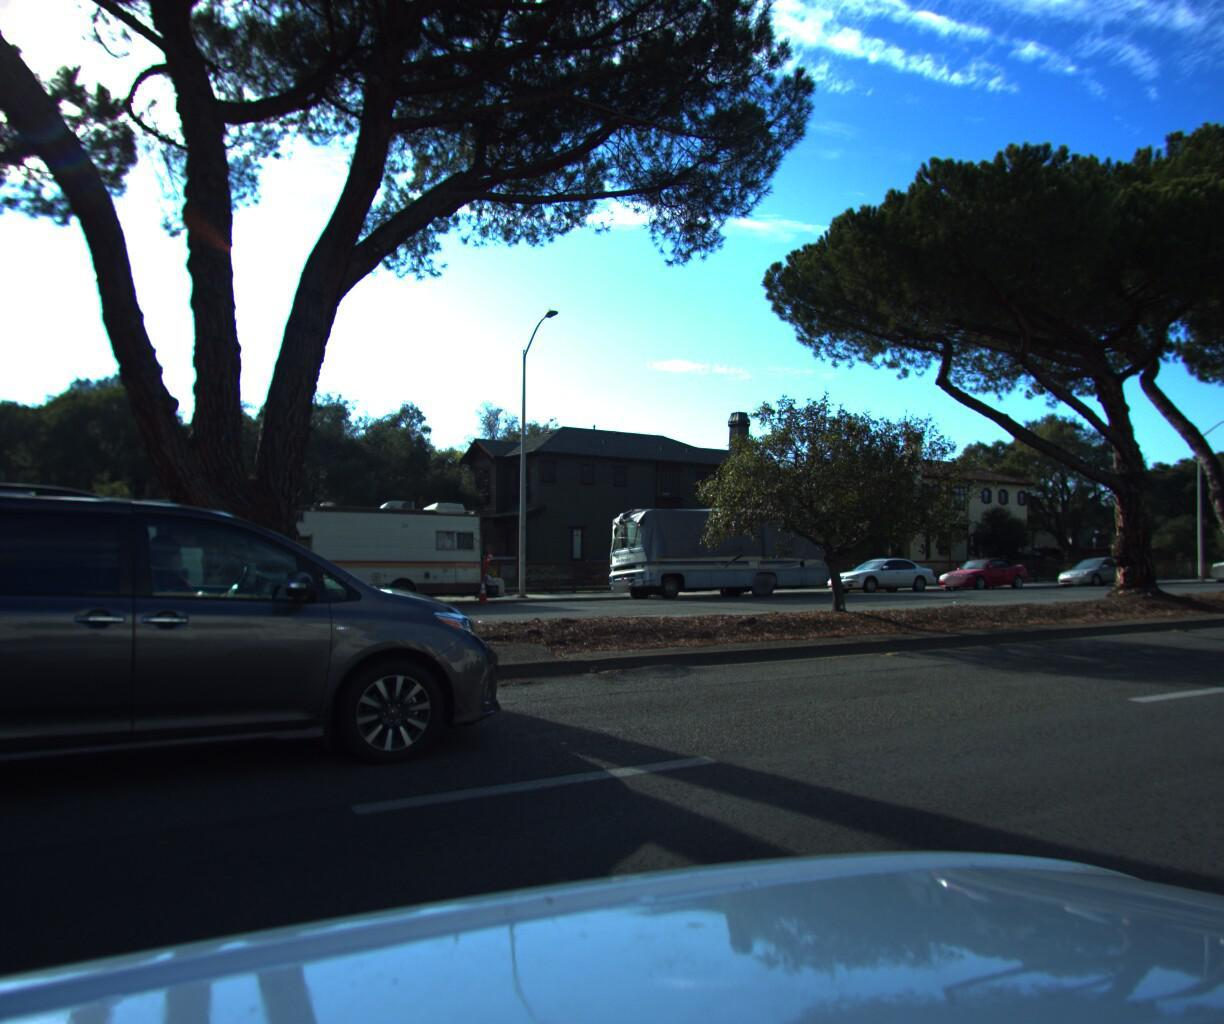car: (820, 552, 939, 591), (929, 552, 1028, 587), (1046, 549, 1141, 585), (1200, 539, 1224, 581)
other_vehicle: (223, 484, 526, 617), (597, 491, 840, 603)
